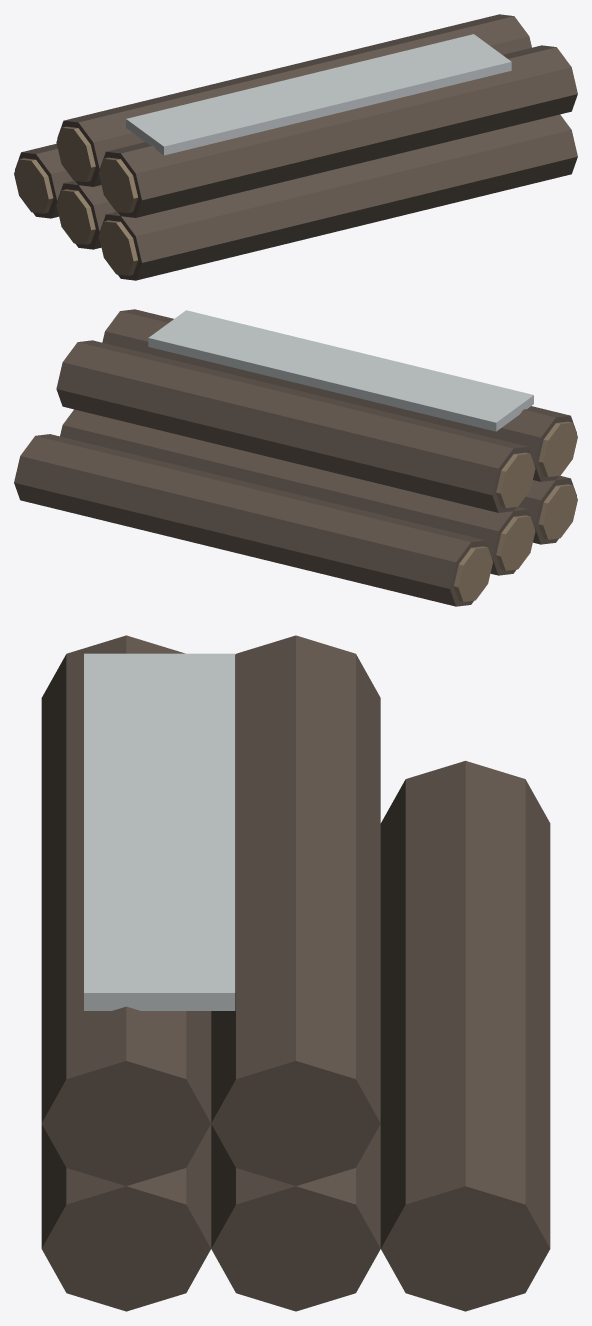
Rendered from log_pile.glb.
3 renders of one model, top to bottom at view 1: azimuth 30°, elevation 25°; view 2: azimuth 150°, elevation 25°; view 3: azimuth 270°, elevation 25°, orthographic. The views are drawn at different scales.
Visible parts, largest first — view 1: log_pile; view 2: log_pile; view 3: log_pile.
Boxes of the visible parts, left/top/right/bottom form: log_pile: left=14, top=14, right=577, bottom=280; log_pile: left=14, top=309, right=577, bottom=606; log_pile: left=41, top=635, right=550, bottom=1311.
Size of the model in its own units: 3.84 by 1.1 by 1.92.
